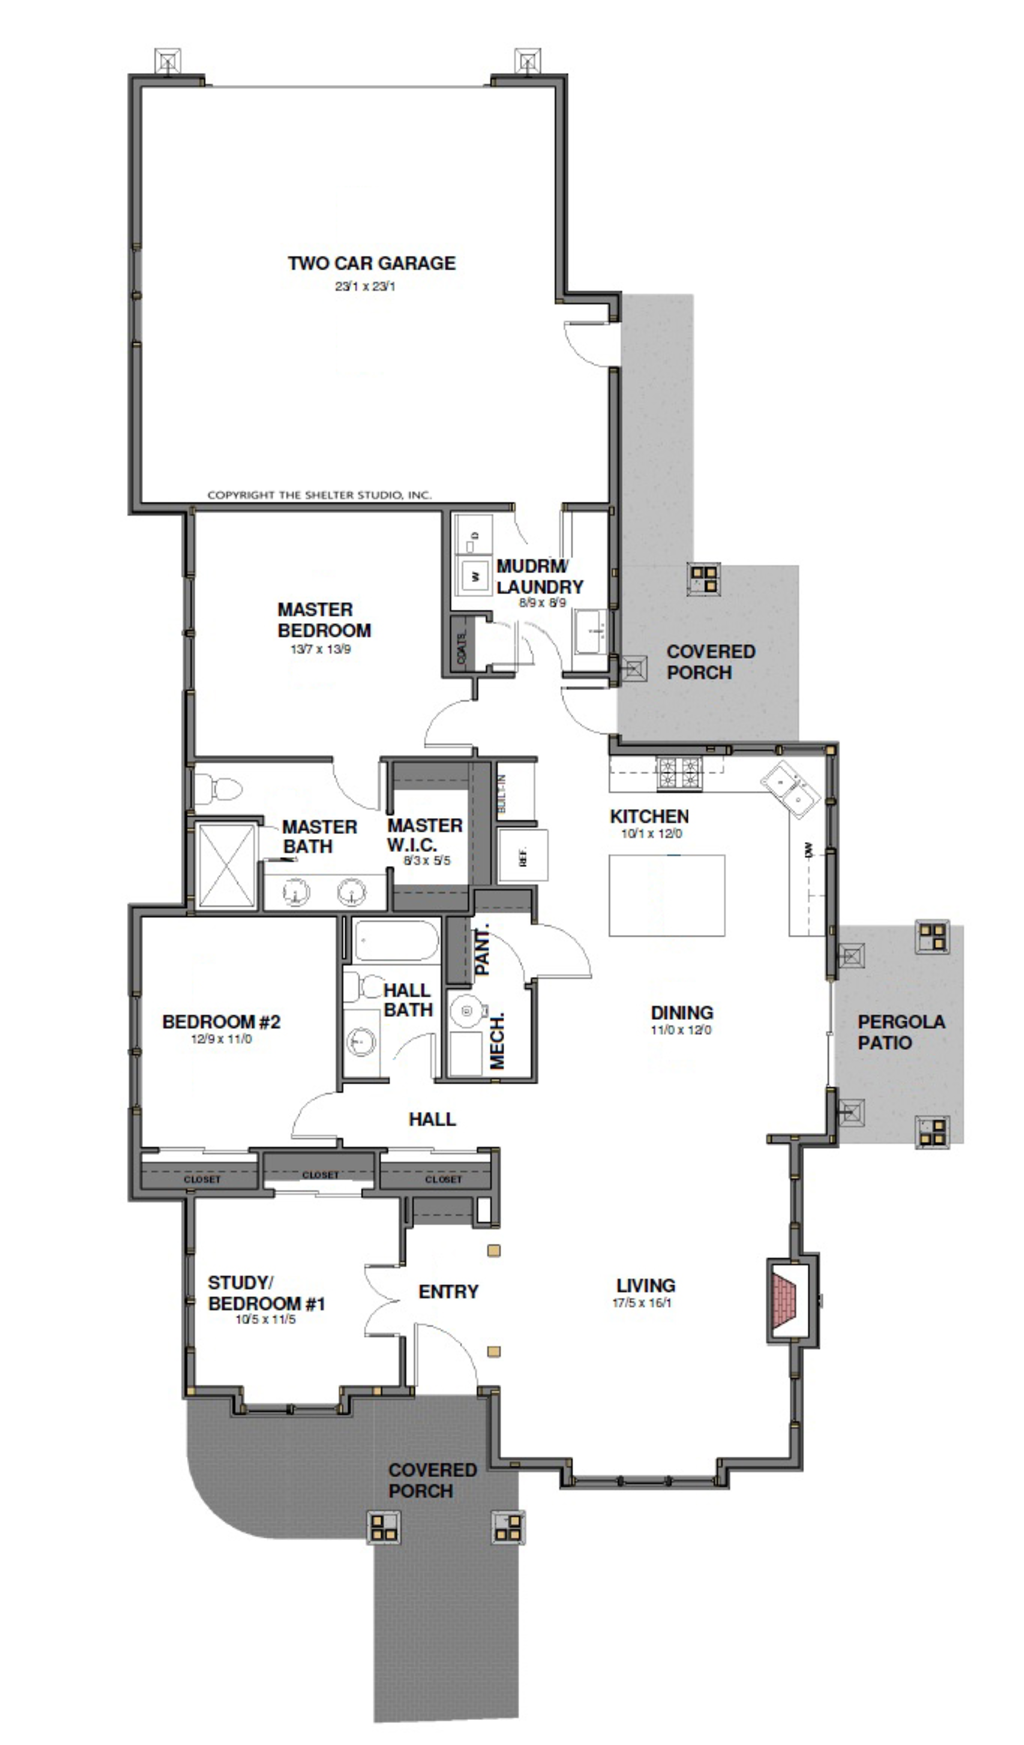door: (352, 1249, 421, 1351), (404, 1318, 492, 1396), (266, 1087, 355, 1149), (315, 743, 386, 819), (414, 684, 492, 751), (563, 311, 628, 381), (532, 908, 590, 985), (506, 614, 566, 688), (475, 606, 536, 676), (510, 497, 568, 568), (382, 1027, 447, 1087), (558, 692, 633, 738), (471, 927, 525, 987)
large_sink: (182, 760, 255, 808), (347, 976, 406, 1019)
small_sink: (268, 872, 393, 911), (344, 1019, 379, 1081)
tub: (344, 916, 455, 979)
twin_sink: (758, 743, 825, 827)
